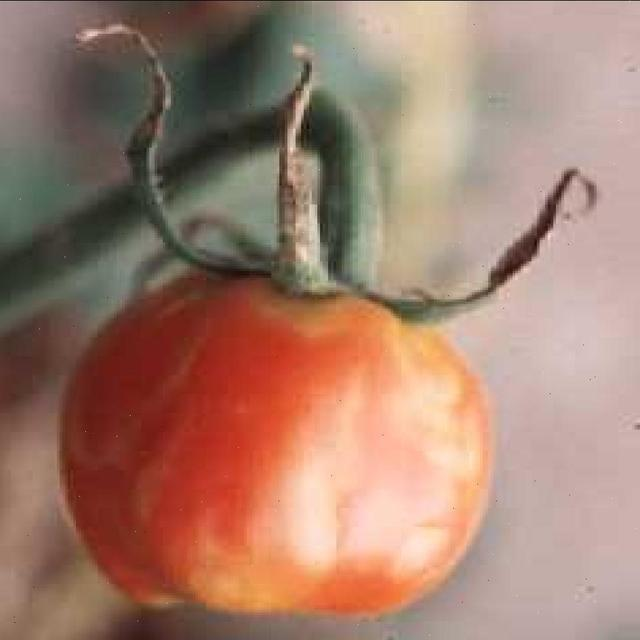Spotted wilt Virus Fruit: (14, 200, 171, 609)
